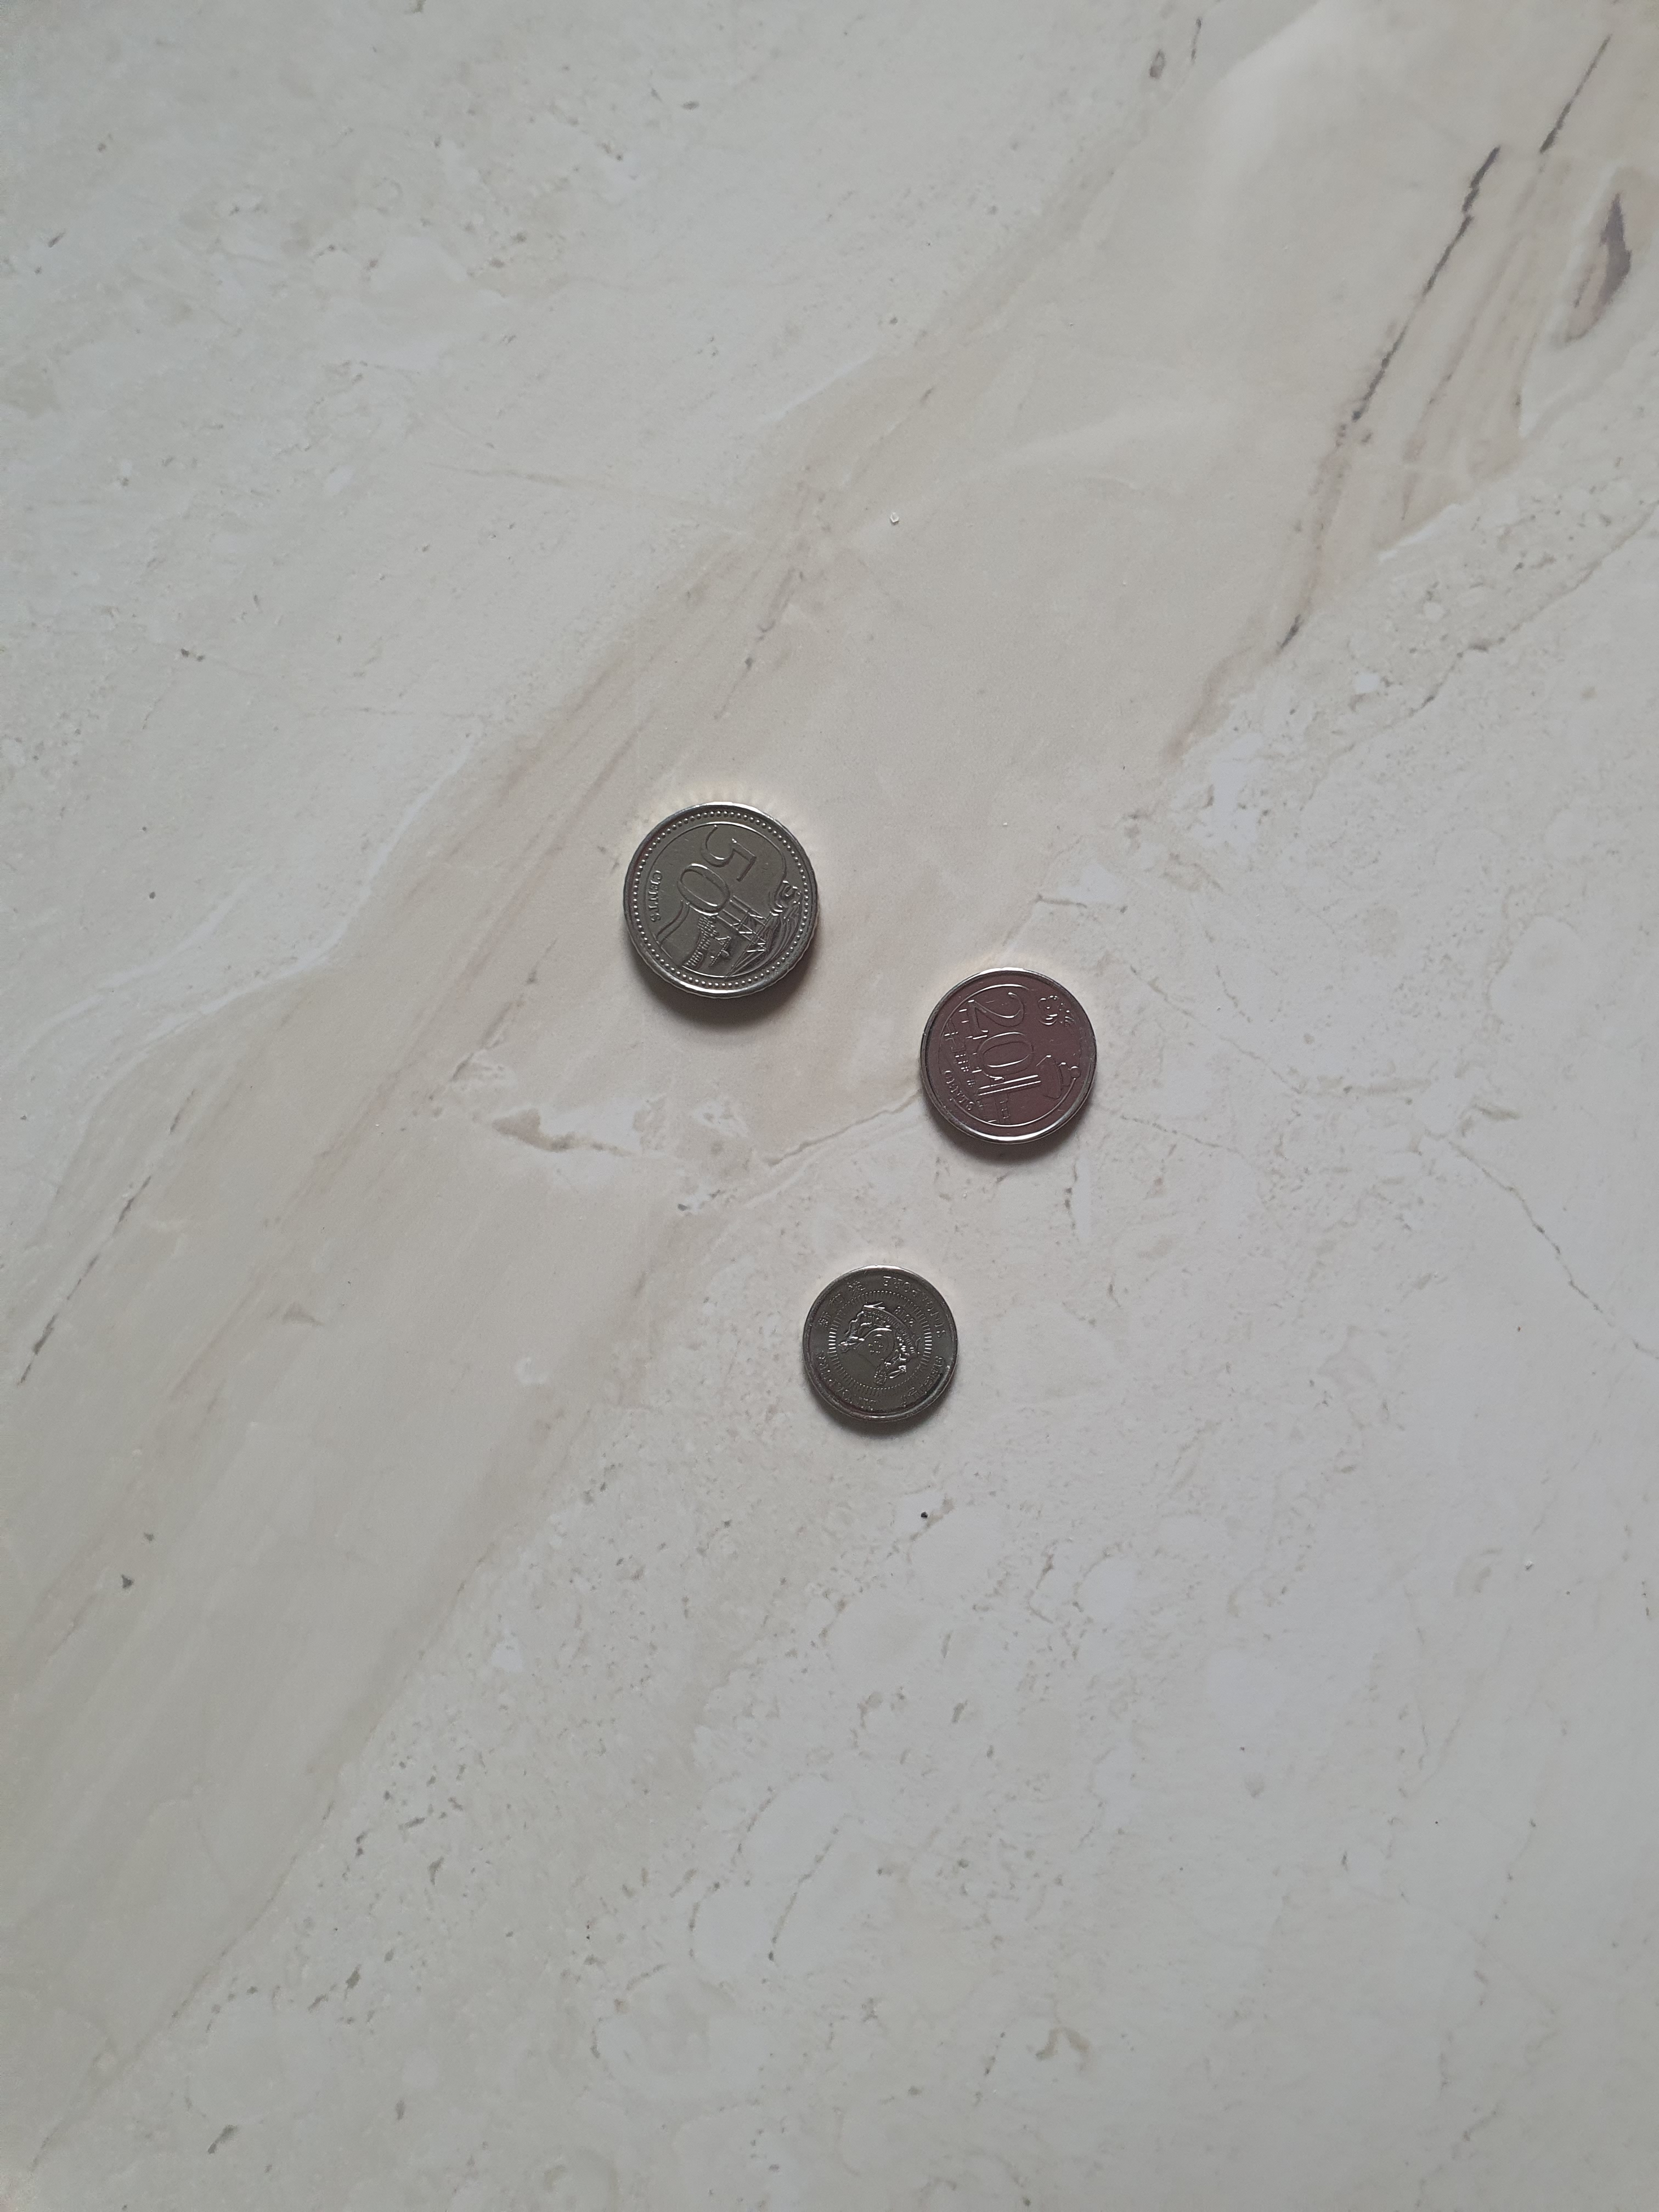10c: (803, 1264, 960, 1426)
20c: (920, 968, 1100, 1148)
50c: (622, 801, 821, 1000)
